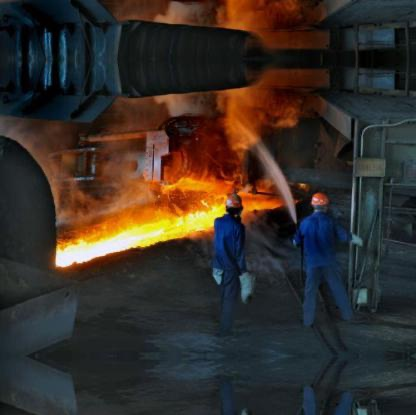Safety Helmet: (307, 189, 333, 219), (221, 192, 244, 220)
